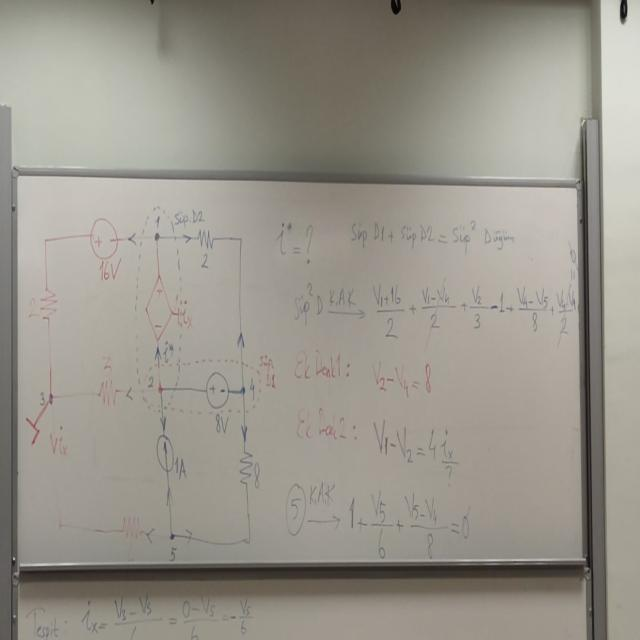image: (24, 188, 282, 555)
math: (370, 270, 580, 348), (344, 489, 477, 561), (347, 212, 521, 261), (368, 408, 463, 492), (366, 351, 440, 408)
